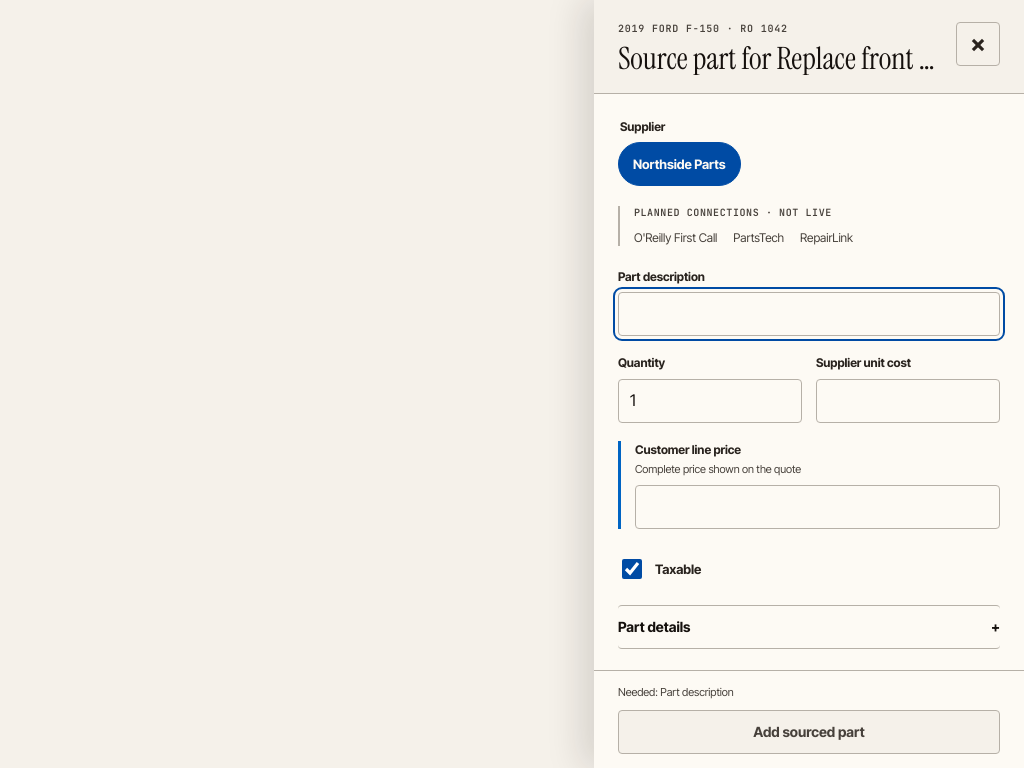
Test: ManualPartSourcing › keeps the draft when the supplier reports the part unavailable
The image size is (1024, 768).
Type "Brake pads" into the field labelled "Part description".
click(809, 314); type("Brake pads")  # box [618, 292, 1000, 336]
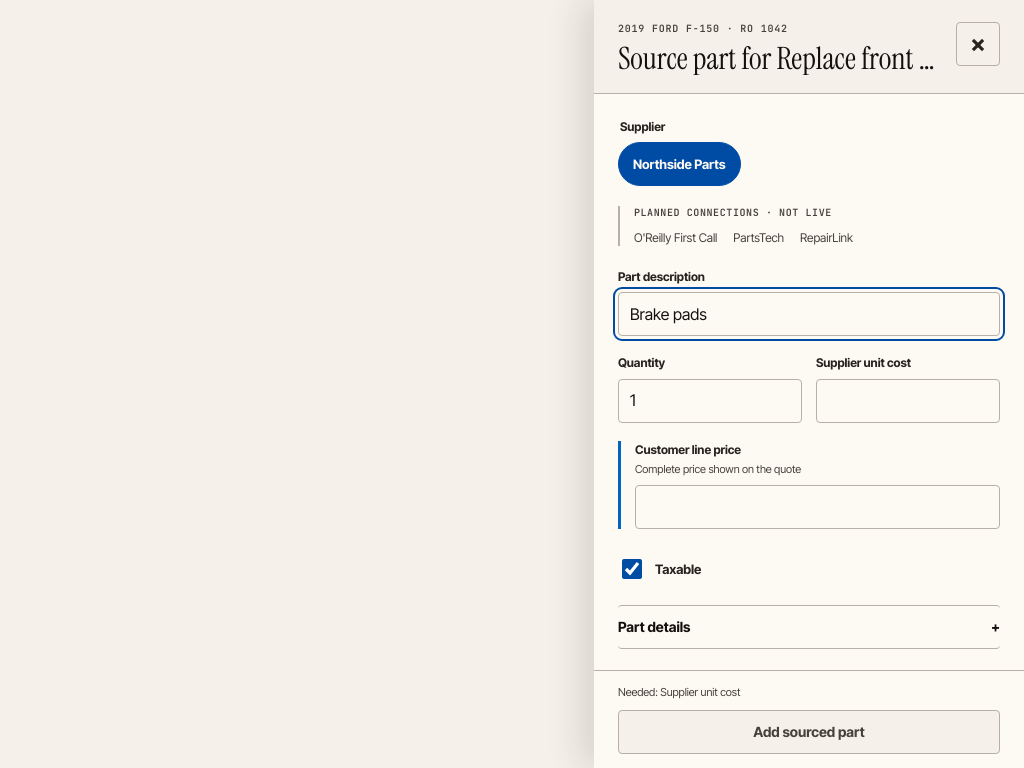
Replace the text in the field labelled "Quantity" with "2" at (710, 401), box [618, 379, 802, 423]
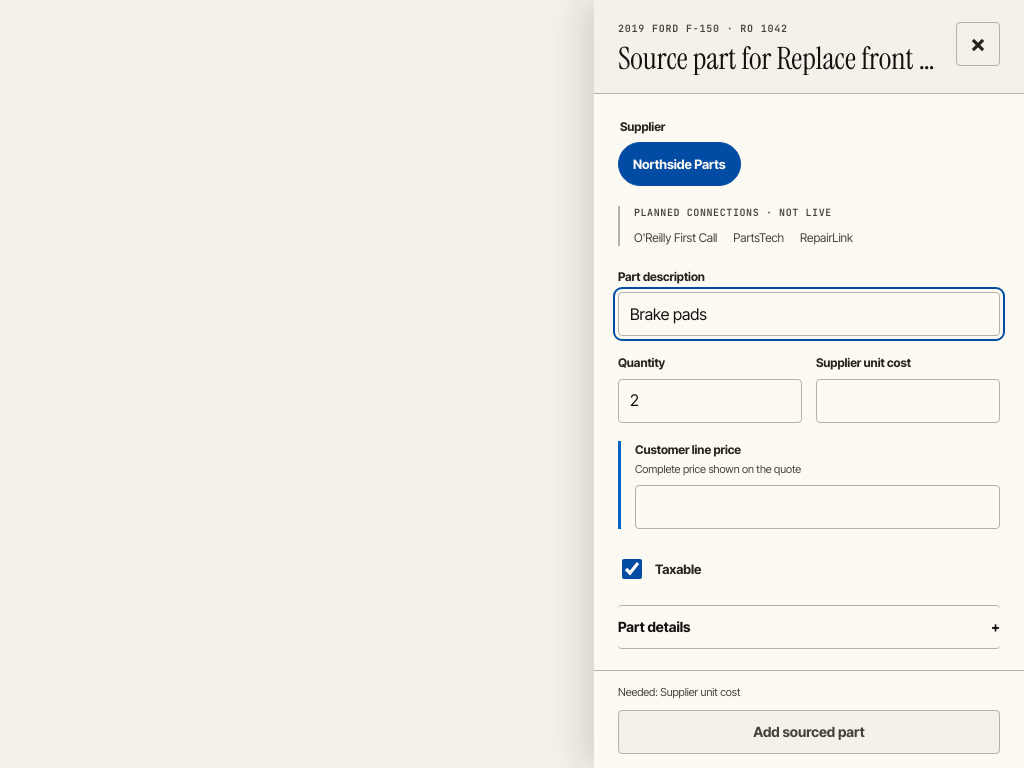
Type "80" into the field labelled "Supplier unit cost".
click(908, 401); type("80")  # box [816, 379, 1000, 423]
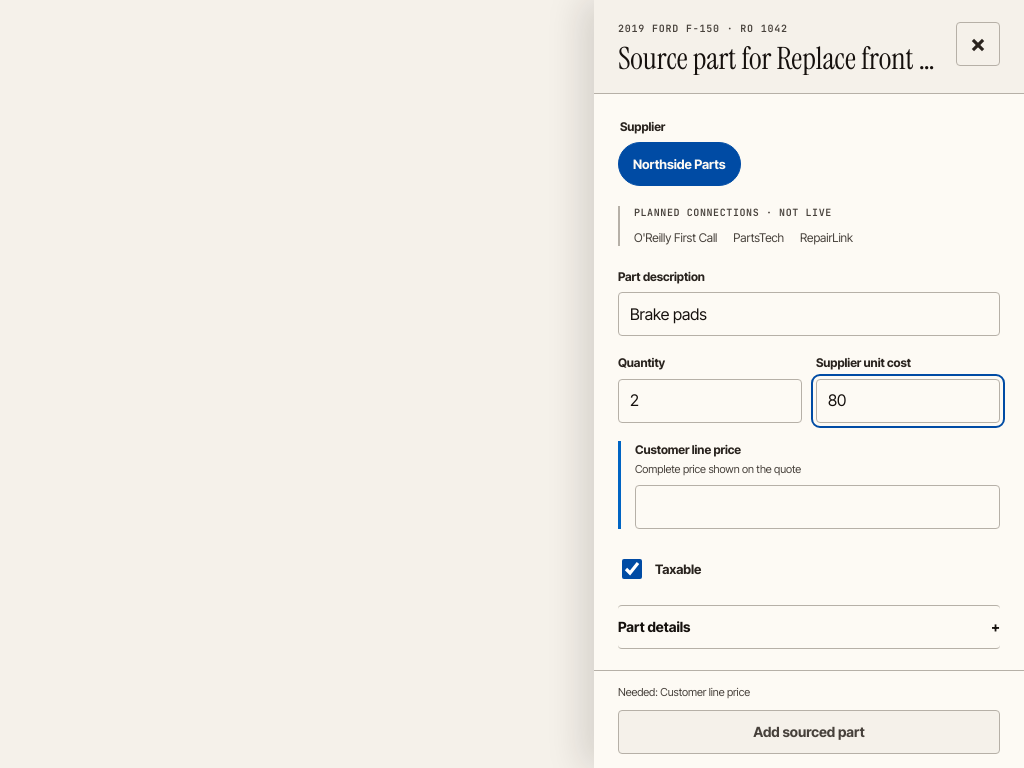
Type "240" into the field labelled "Customer line price".
click(817, 507); type("240")  # box [635, 485, 1000, 529]
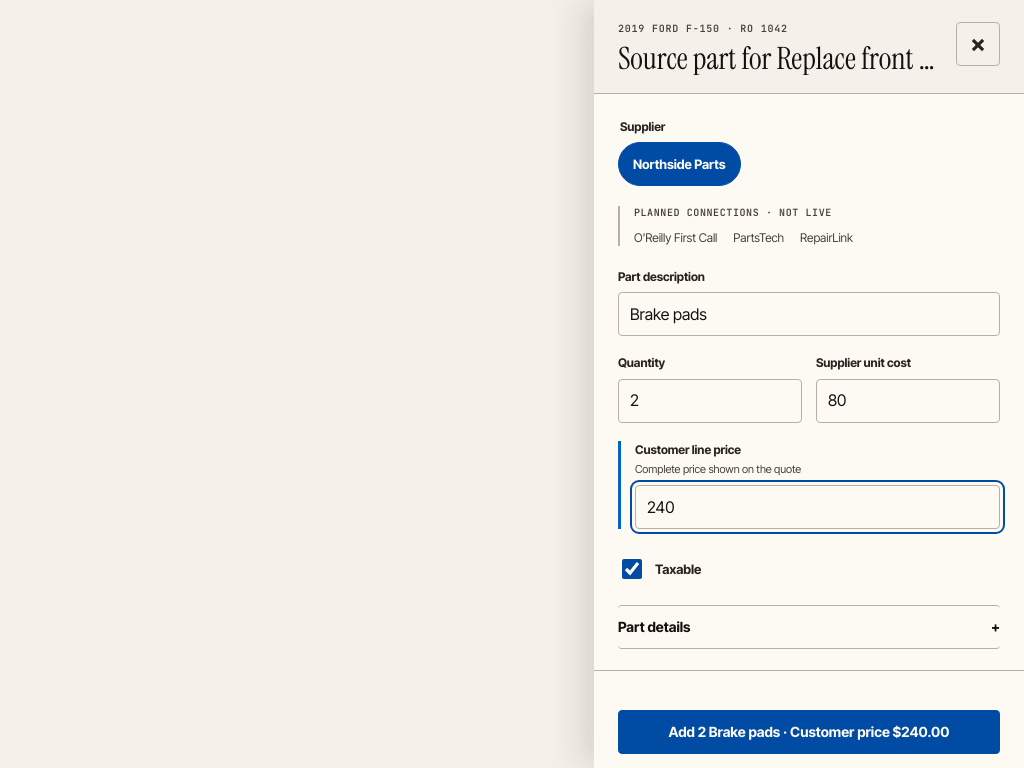
Click the button "Add 2 Brake pads · Customer price $240.00".
click(809, 732)  # box [618, 710, 1000, 754]
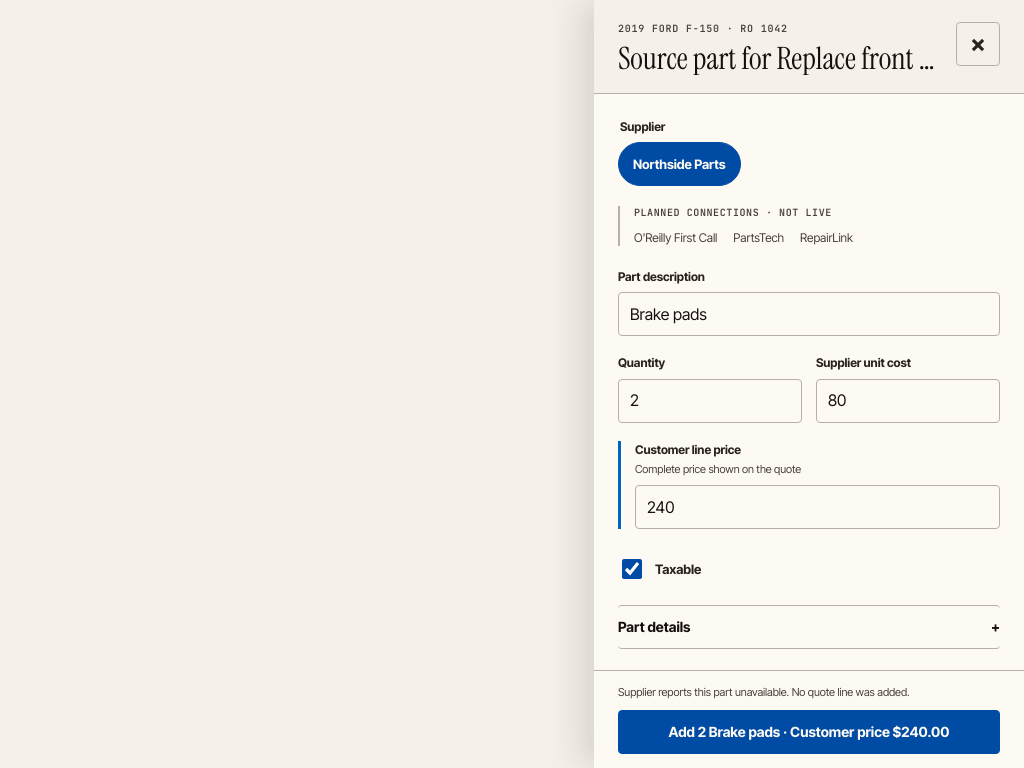
Expected: the message reads "Supplier reports this part unavailable. No quote line was added.", [618, 685, 910, 699]
